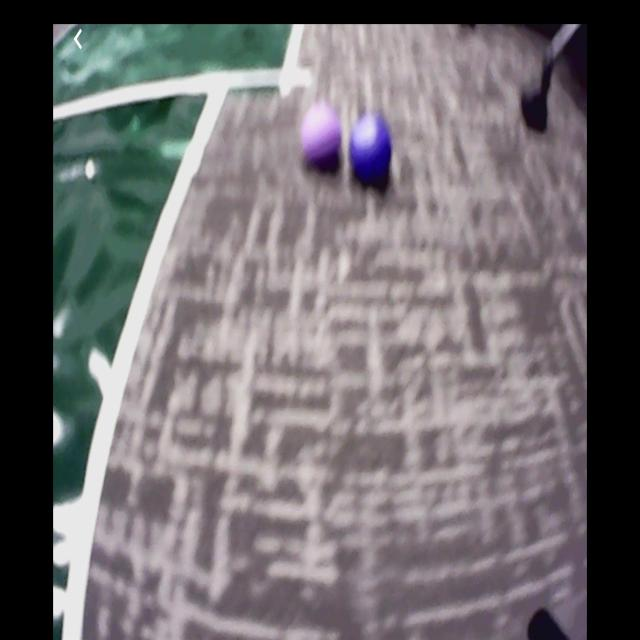ball: (350, 112, 391, 187), (302, 107, 343, 168)
